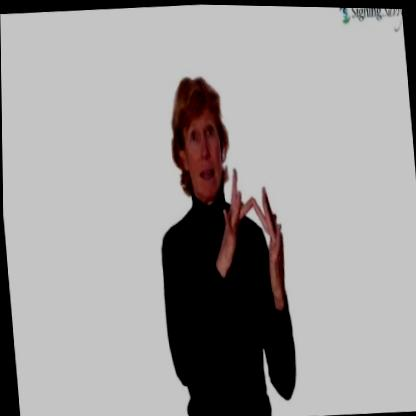Internet: (146, 66, 304, 408)
